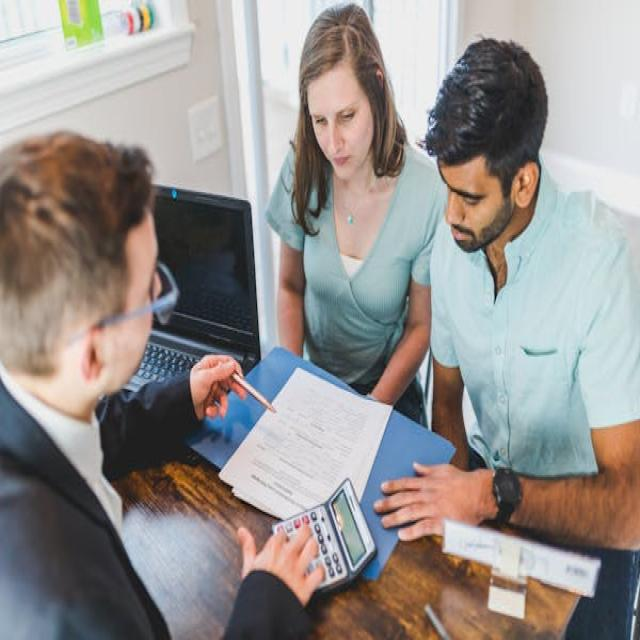notebook: (215, 350, 405, 520)
pen: (216, 340, 284, 425)
